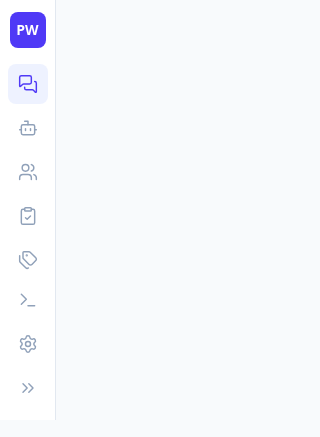
Test case: IconRail › shows text labels when expanded
This screenshot has width=320, height=437.
Click the button named "Expand sidebar" at x=28, y=388, box x1=8 y1=368 x2=48 y2=408
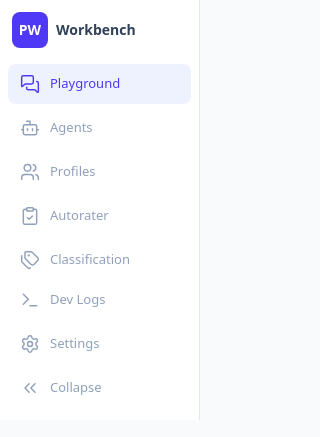
Result: the text "Workbench" is shown at x1=56 y1=20 x2=136 y2=40
Result: the text "Collapse" is shown at x1=50 y1=378 x2=102 y2=398
